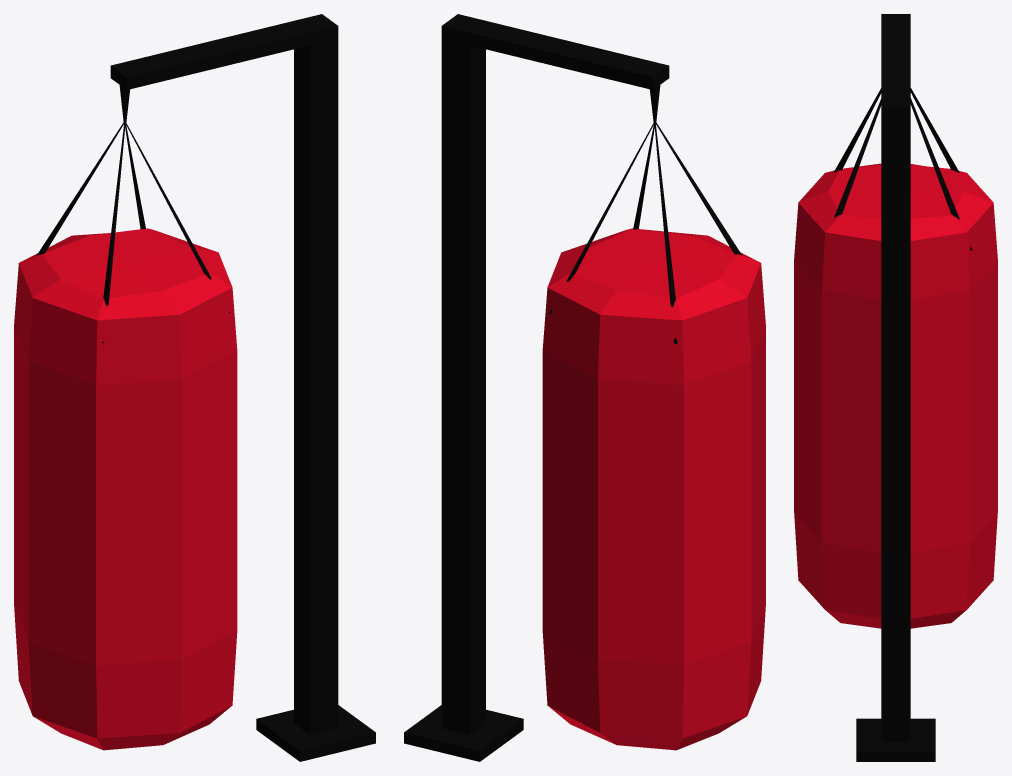
Rendered from Saco.glb.
3 views of the same model, side by side, from view 1: azimuth 30°, elevation 25°; view 2: azimuth 150°, elevation 25°; view 3: azimuth 270°, elevation 25° (orthographic). The views are drawn at different scales.
Visible parts, largest first — view 1: Saco_Models; view 2: Saco_Models; view 3: Saco_Models.
Part boxes in pixels (x1,y1,x2,y2): Saco_Models: [14, 14, 375, 761]; Saco_Models: [404, 14, 765, 761]; Saco_Models: [794, 14, 997, 761].
Bounding box in the file's own units: 4.54 × 9.52 × 2.73.
1 material, 1 textured.
